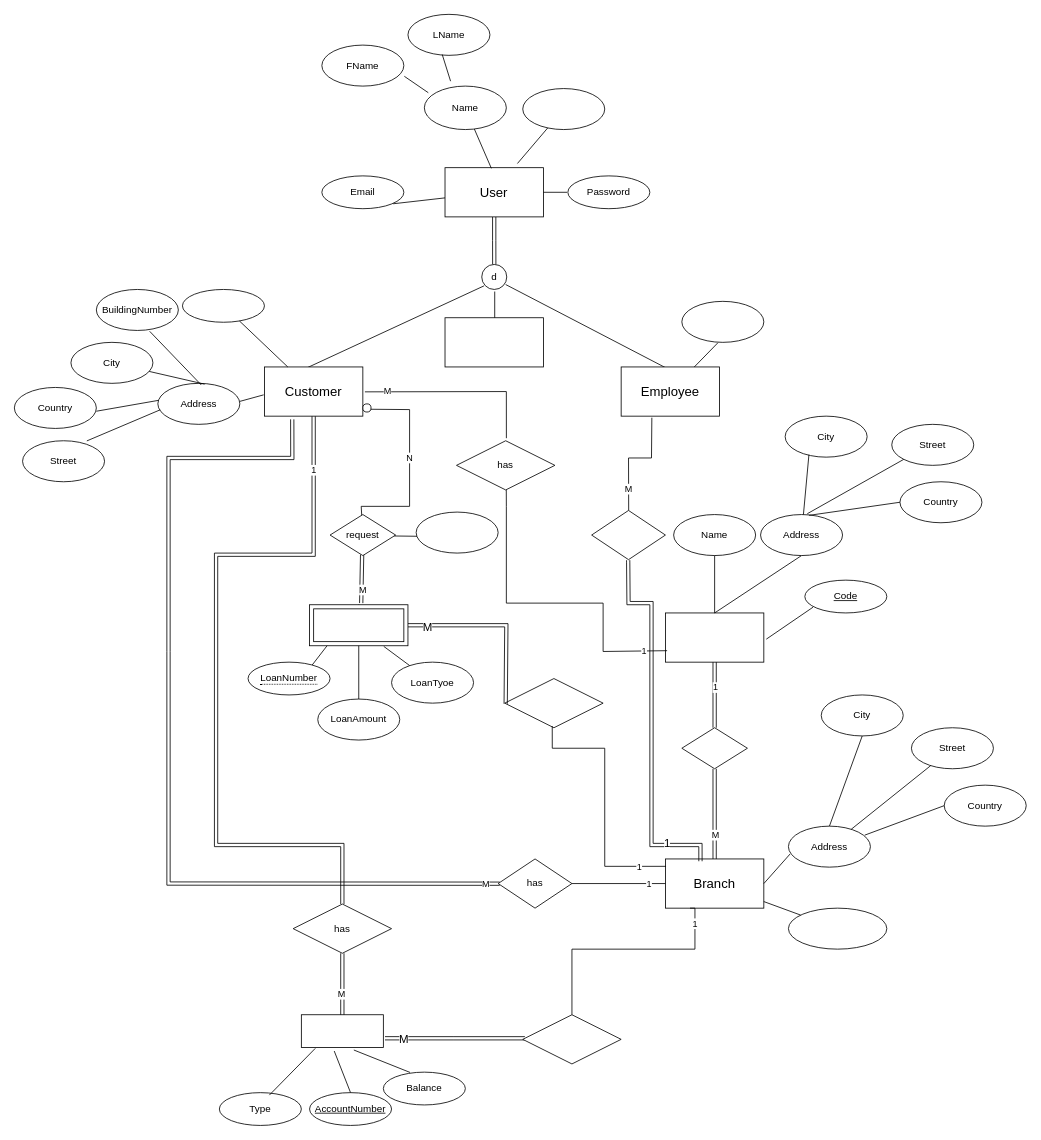
The diagram is 1041 pixels wide and 1140 high, and some of its shapes have lost their labels. The box of each missing label's shape, as (x1, y1, x2, y2) in pixels:
Account: (301, 1014, 383, 1048)
Admin: (444, 317, 543, 367)
Bank: (665, 612, 764, 662)
belongs to: (681, 727, 747, 769)
BranchNumber: (788, 907, 887, 949)
Hiring: (591, 510, 665, 560)
Loan: (309, 604, 408, 646)
maintain: (522, 1014, 621, 1064)
offer: (504, 678, 603, 728)
Phone: (182, 289, 264, 322)
Salary: (681, 301, 764, 342)
SSN: (522, 88, 605, 130)
Status: (415, 511, 498, 553)
